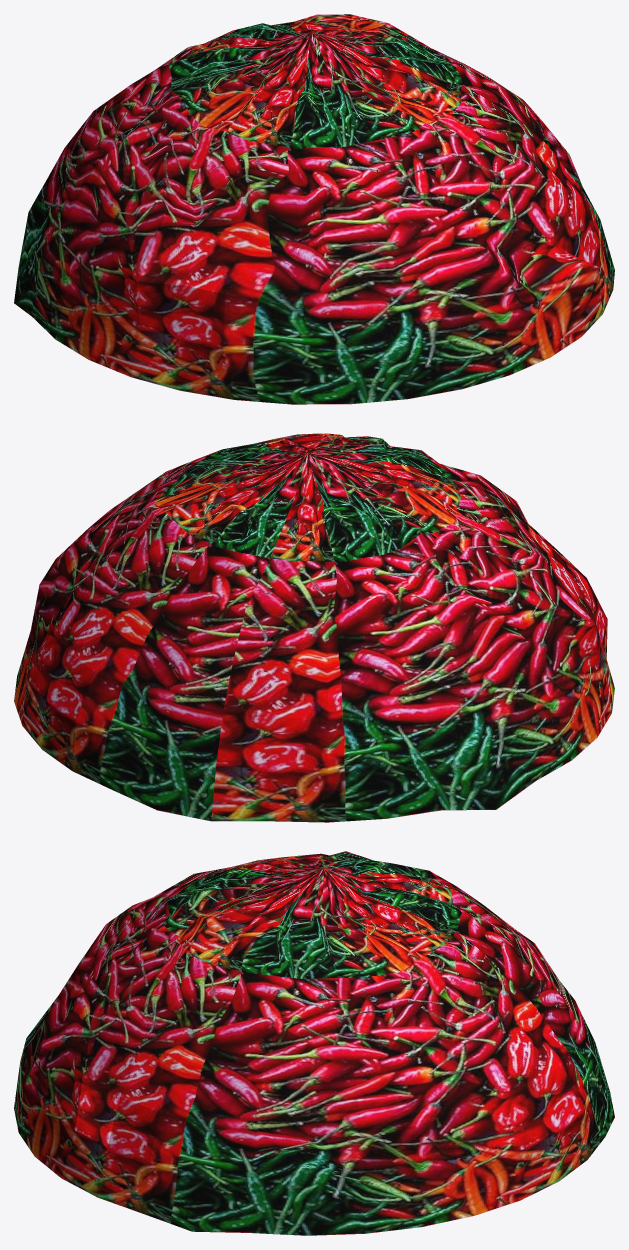
Rendered from Chiles.obj.
The picture shows the model from 3 angles, top to bottom: view 1: azimuth 30°, elevation 25°; view 2: azimuth 150°, elevation 25°; view 3: azimuth 270°, elevation 25°; orthographic projection.
Visible parts, largest first — view 1: Esfera.003_Material.003; view 2: Esfera.003_Material.003; view 3: Esfera.003_Material.003.
Part boxes in pixels (<box>): Esfera.003_Material.003: <box>14,14,614,404</box>; Esfera.003_Material.003: <box>14,433,614,822</box>; Esfera.003_Material.003: <box>14,851,614,1235</box>.
Size of the model in its own units: 0.5617 by 0.2639 by 0.5683.
Materials: 1 (1 with a texture image).
